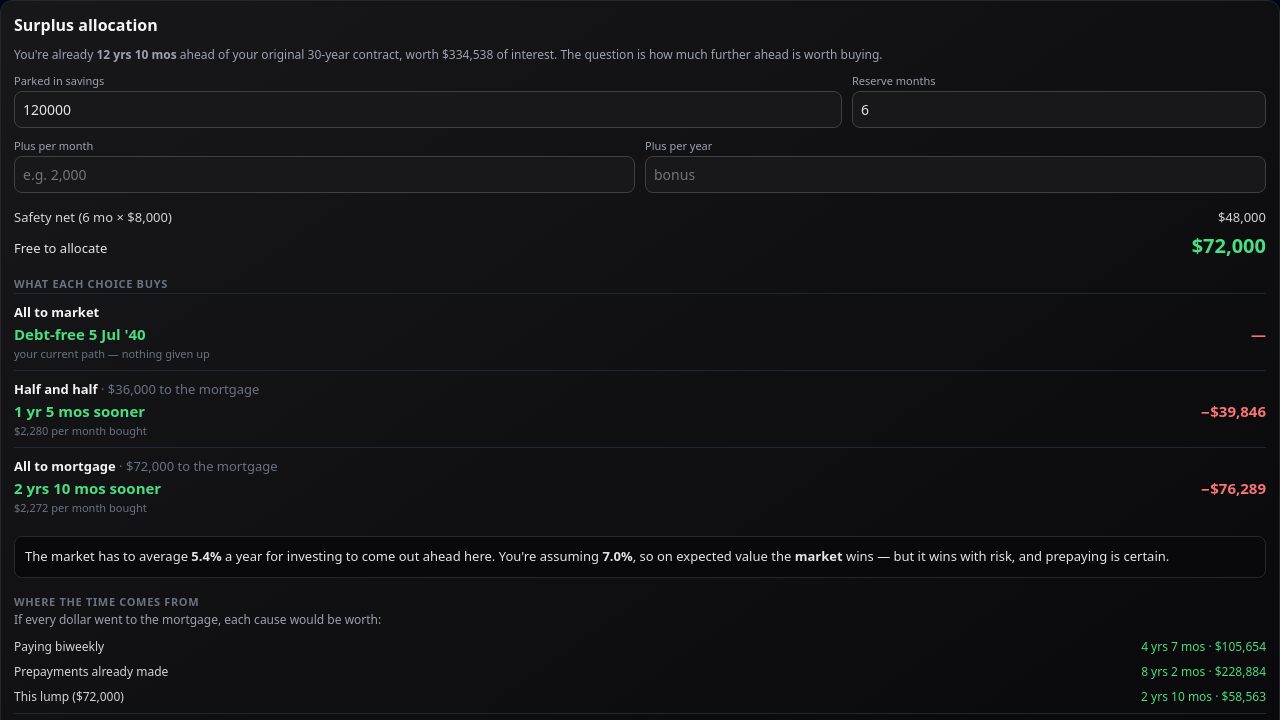
it: SurplusAllocationCard › never leaves a field showing a value the card is not using
Replace the text in the field named "parked in savings" with "abc" at {"x": 428, "y": 110}, box [14,91,842,128]
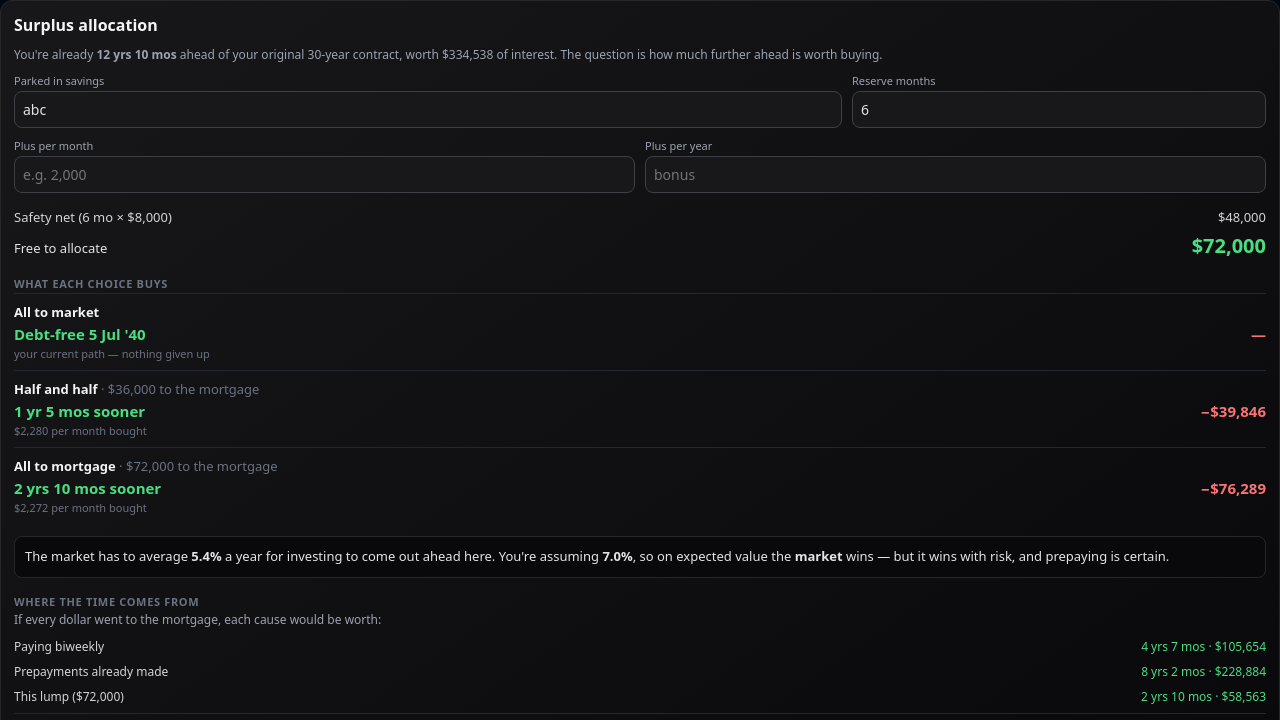
Leave the field named "parked in savings", box [14,91,842,128]
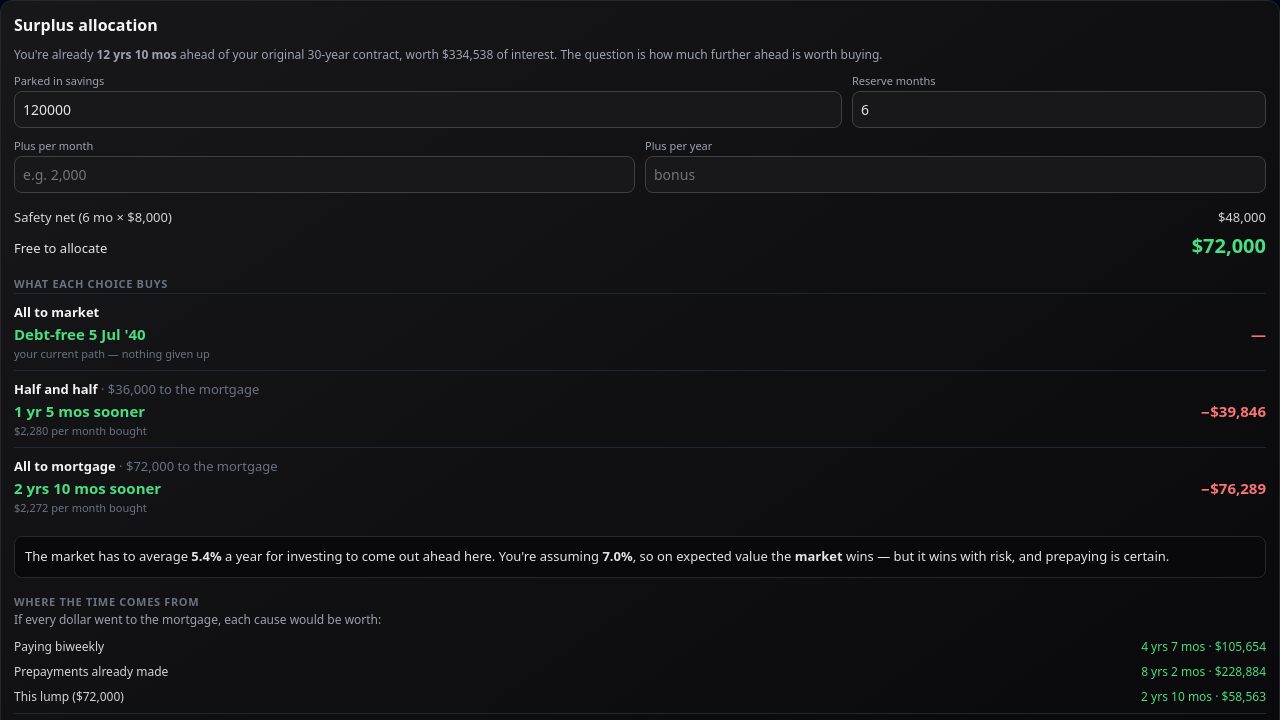
Now the field named "parked in savings" holds "120000"
Same for a negative amount, which is not a balance.
Replace the text in the field named "parked in savings" with "-5000" at {"x": 428, "y": 110}, box [14,91,842,128]
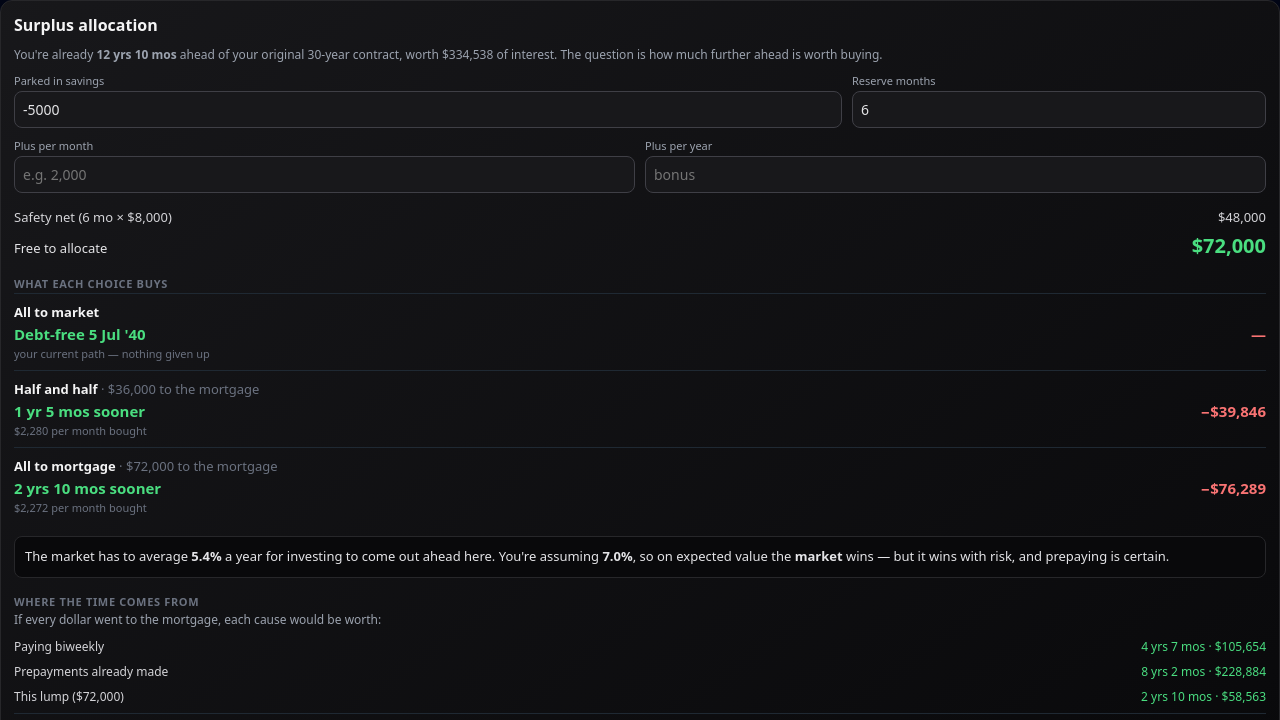
Leave the field named "parked in savings", box [14,91,842,128]
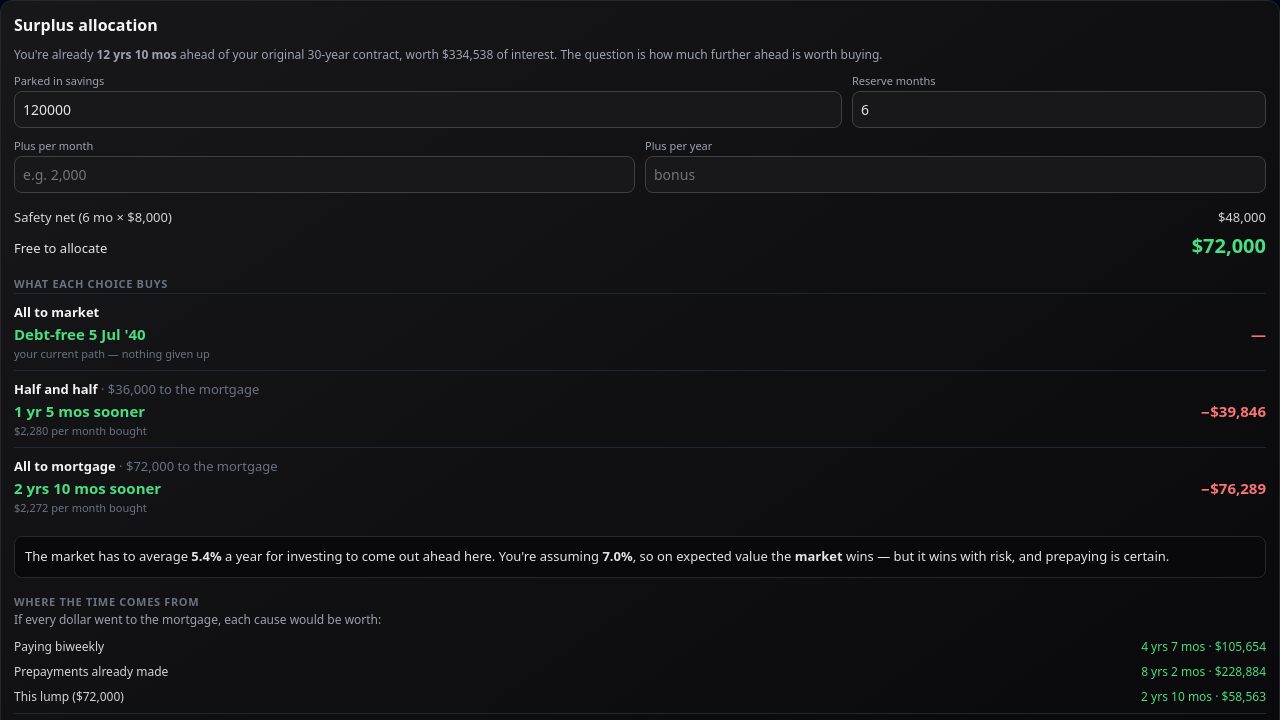
Now the field named "parked in savings" holds "120000", box [14,91,842,128]
